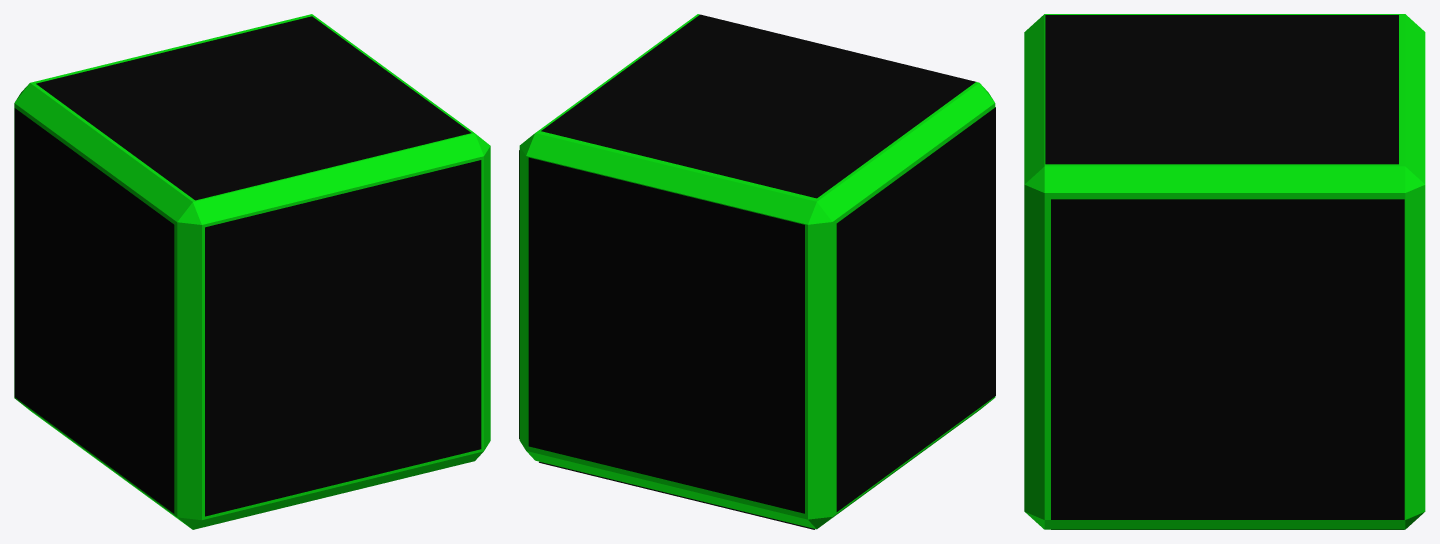
3 renders of one model, left to right at view 1: azimuth 30°, elevation 25°; view 2: azimuth 150°, elevation 25°; view 3: azimuth 270°, elevation 25°, orthographic. The views are drawn at different scales.
Parts seen in each view (by area): view 1: Plane, Plane.005, Plane.001, Cube; view 2: Plane.002, Plane.005, Plane.001, Cube; view 3: Plane.004, Plane.001, Cube.
Boxes of the visible parts, left/top/right/bottom form: Plane: left=205, top=160, right=481, bottom=516; Plane.005: left=14, top=108, right=174, bottom=513; Plane.001: left=36, top=16, right=470, bottom=200; Cube: left=14, top=14, right=490, bottom=529; Plane.002: left=528, top=157, right=804, bottom=513; Plane.005: left=836, top=107, right=995, bottom=511; Plane.001: left=541, top=14, right=975, bottom=198; Cube: left=519, top=14, right=995, bottom=529; Plane.004: left=1051, top=199, right=1404, bottom=519; Plane.001: left=1045, top=15, right=1398, bottom=164; Cube: left=1024, top=14, right=1425, bottom=529.
Size of the model in its own units: 202 by 201 by 200.
